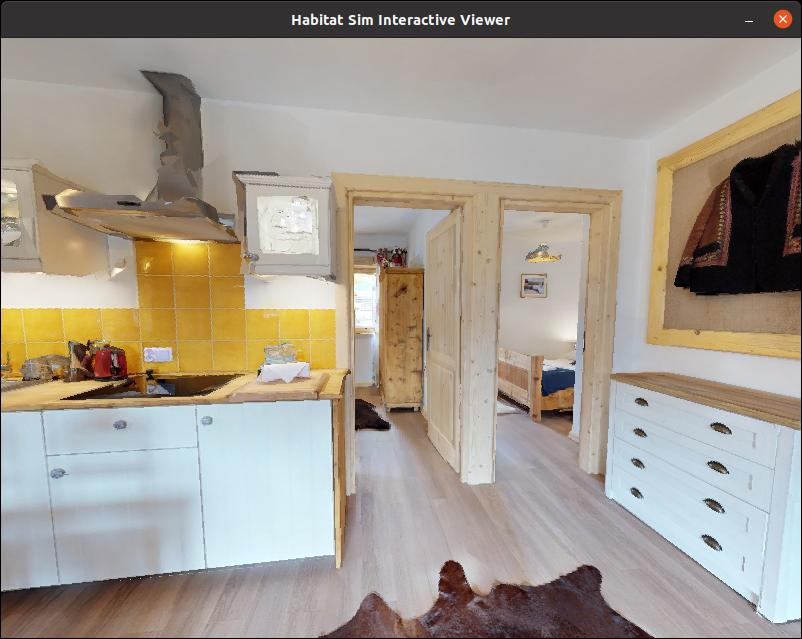door-frame: (331, 177, 481, 491), (477, 193, 606, 482)
